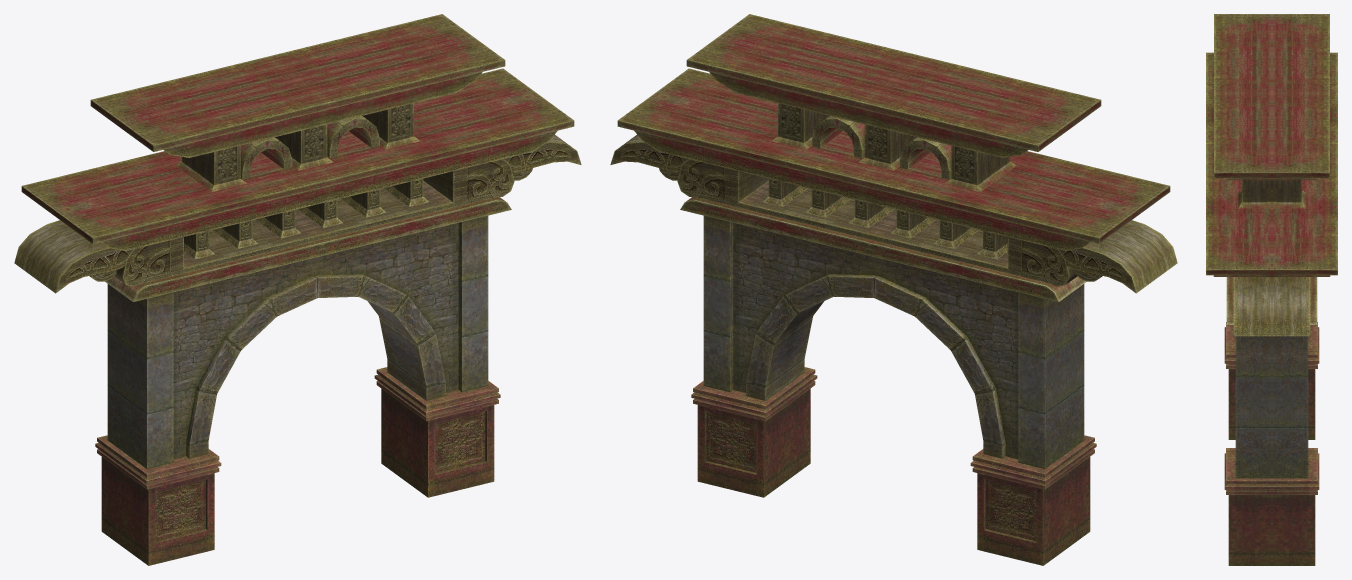
Rendered from fortressa_gate_00.fbx.
The picture shows the model from 3 angles, left to right: view 1: azimuth 30°, elevation 25°; view 2: azimuth 150°, elevation 25°; view 3: azimuth 270°, elevation 25°; orthographic projection. The views are drawn at different scales.
Parts seen in each view (by area): view 1: fortressA_gate1_1; view 2: fortressA_gate1_1; view 3: fortressA_gate1_1.
Boxes of the visible parts, <box> form: fortressA_gate1_1: <box>14,14,581,565</box>; fortressA_gate1_1: <box>610,14,1177,565</box>; fortressA_gate1_1: <box>1206,14,1337,565</box>.
Bounding box in the file's own units: 31.39 × 24.34 × 7.38.
